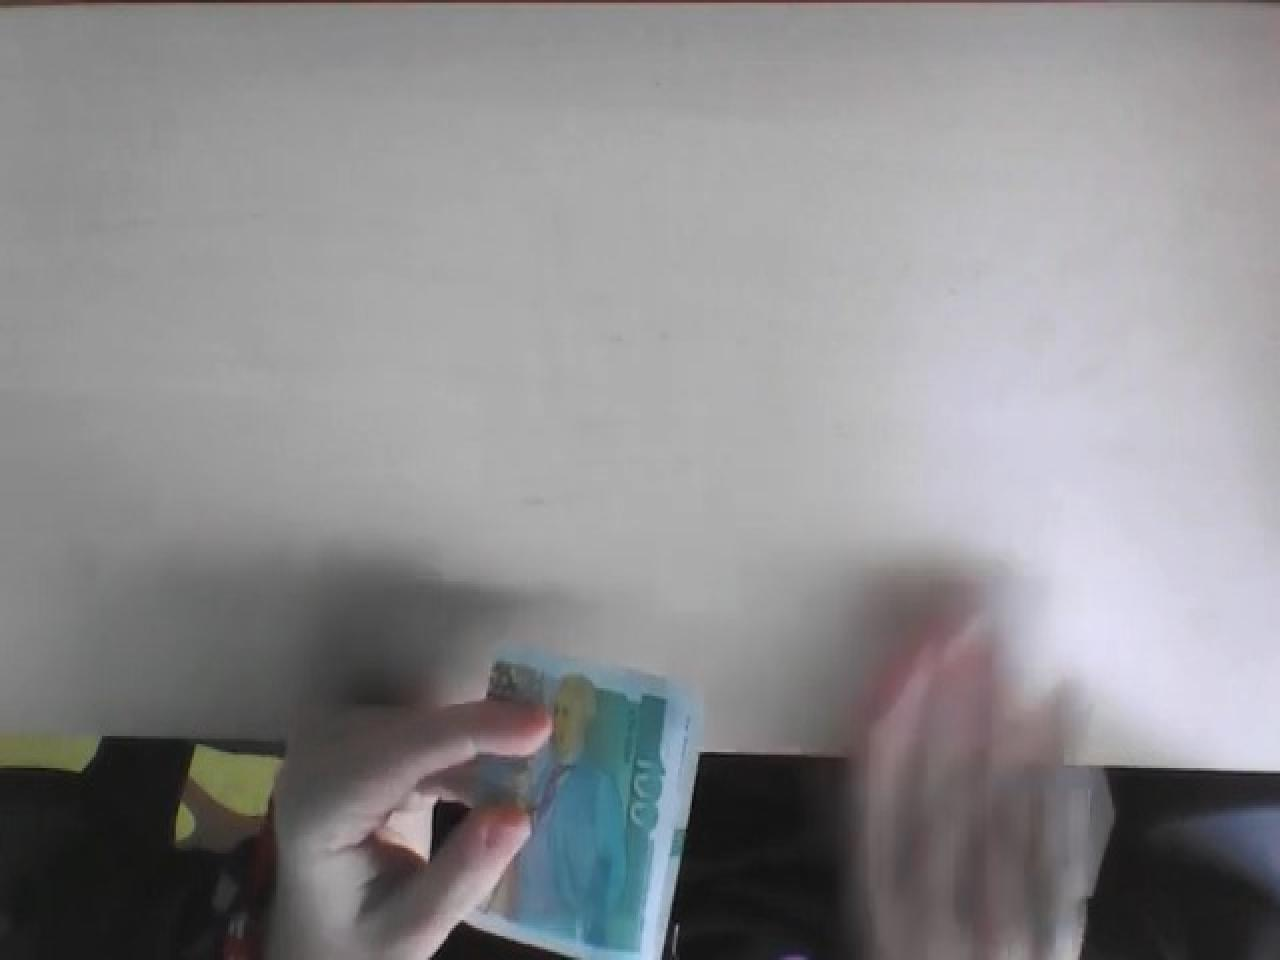100leva: (466, 653, 700, 960)
